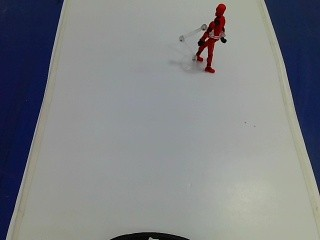pedestrian: (196, 0, 232, 85)
